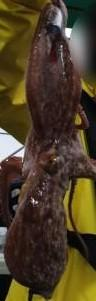Cephalopod: (4, 0, 95, 300)
